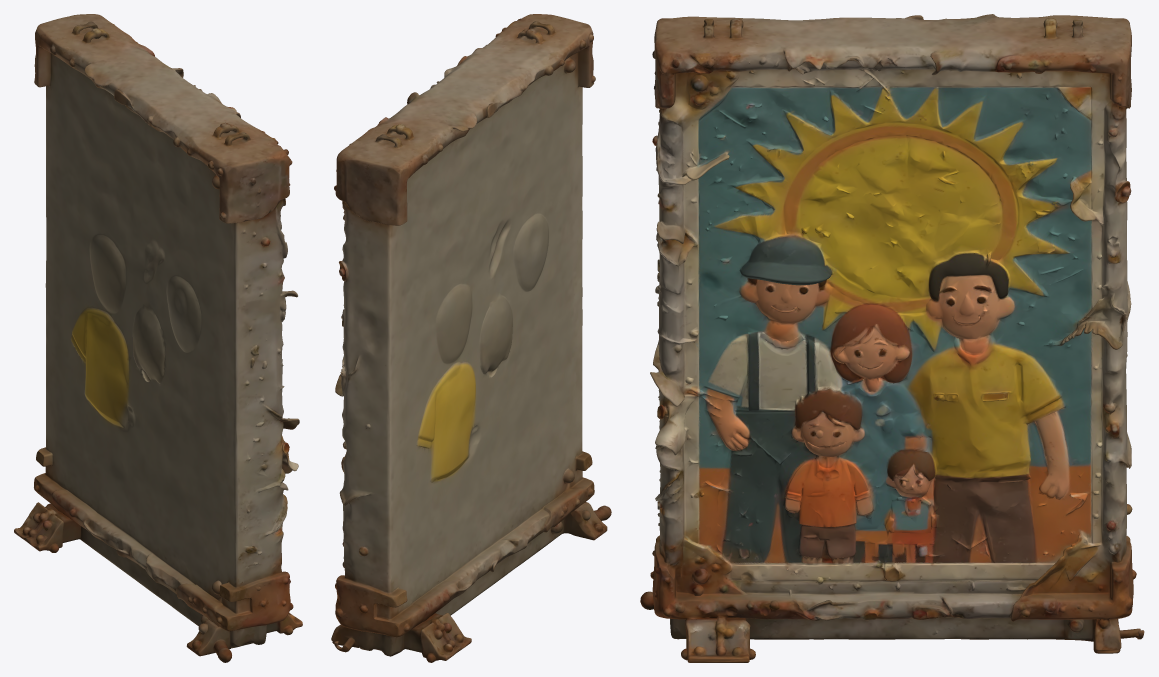
The model's file is poster_1.glb.
The picture shows the model from 3 angles, left to right: view 1: azimuth 30°, elevation 25°; view 2: azimuth 150°, elevation 25°; view 3: azimuth 270°, elevation 25°; orthographic projection. The views are drawn at different scales.
Parts seen in each view (by area): view 1: tripo_node_bb902df6-f2d8-4b44-9ea7-0f4921920916; view 2: tripo_node_bb902df6-f2d8-4b44-9ea7-0f4921920916; view 3: tripo_node_bb902df6-f2d8-4b44-9ea7-0f4921920916.
Boxes of the visible parts, <box> form: tripo_node_bb902df6-f2d8-4b44-9ea7-0f4921920916: <box>14,14,302,662</box>; tripo_node_bb902df6-f2d8-4b44-9ea7-0f4921920916: <box>331,14,611,662</box>; tripo_node_bb902df6-f2d8-4b44-9ea7-0f4921920916: <box>640,14,1144,662</box>.
Size of the model in its own units: 0.2464 by 0.9793 by 0.7277.
1 material, 1 textured.
